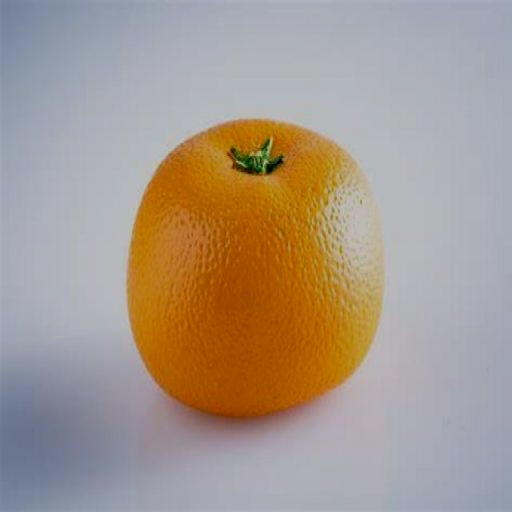fruit: (128, 120, 383, 415)
